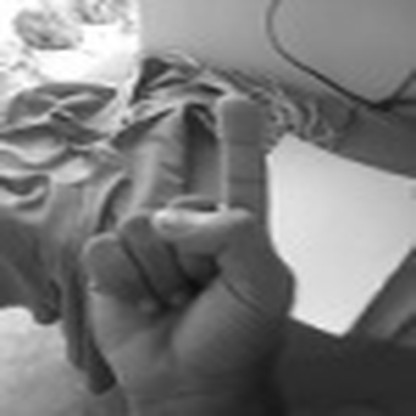d: (73, 81, 300, 416)
